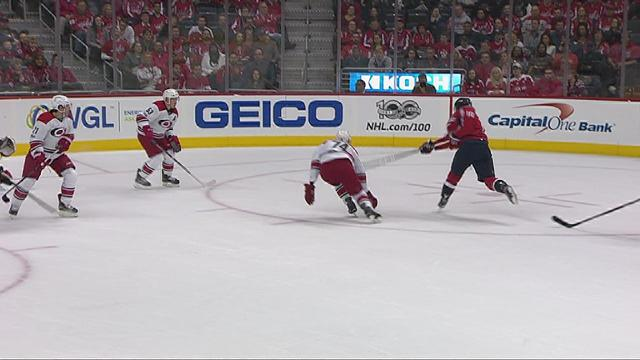geico: (192, 96, 349, 131)
